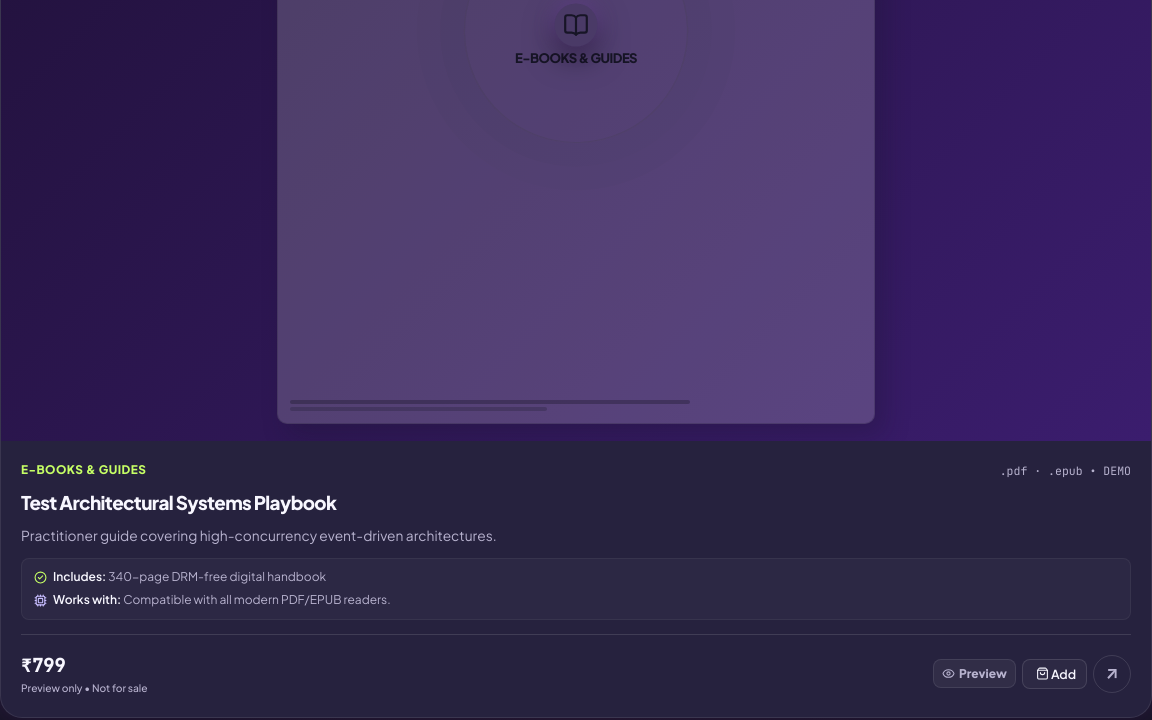
Test: Product Quick View Modal & Portal Functionality › closes when clicking the close button and restores body scroll
This screenshot has width=1152, height=720.
(page scrolled)
Click the button "Preview" at [974, 674], box x1=933 y1=659 x2=1016 y2=688
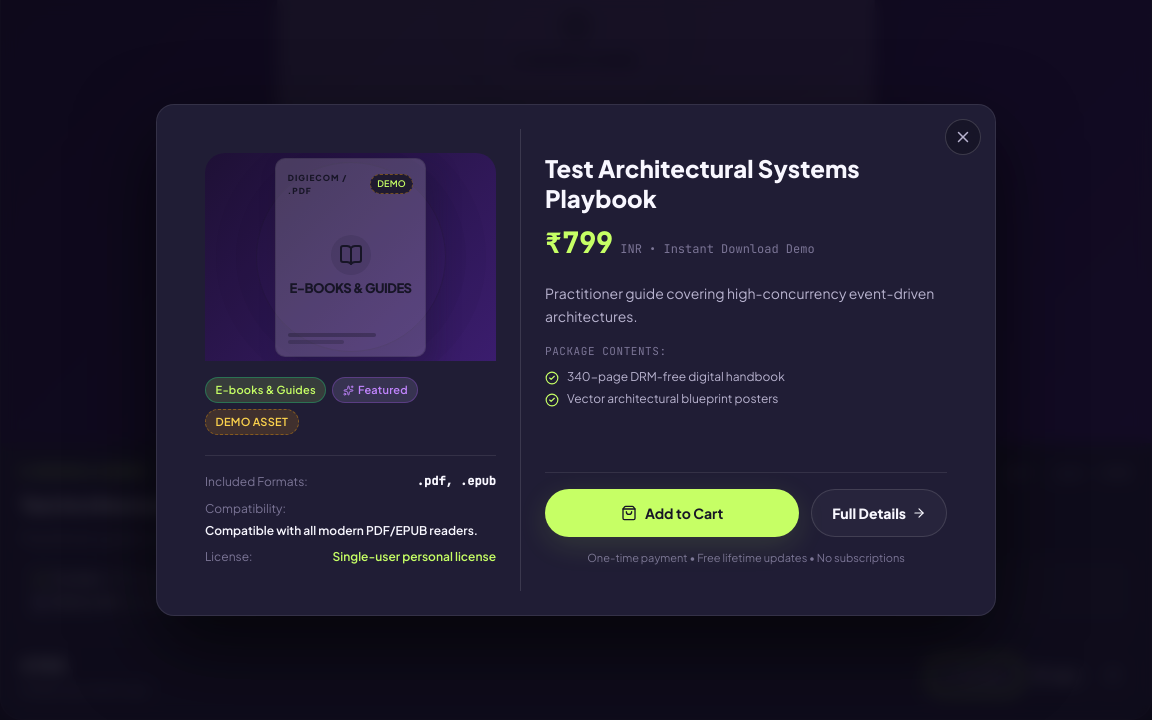
Expected: the dialog is shown, x1=156 y1=104 x2=996 y2=616
Click Close
Click the button named "Close quick view" at [963, 137], box x1=945 y1=119 x2=981 y2=155
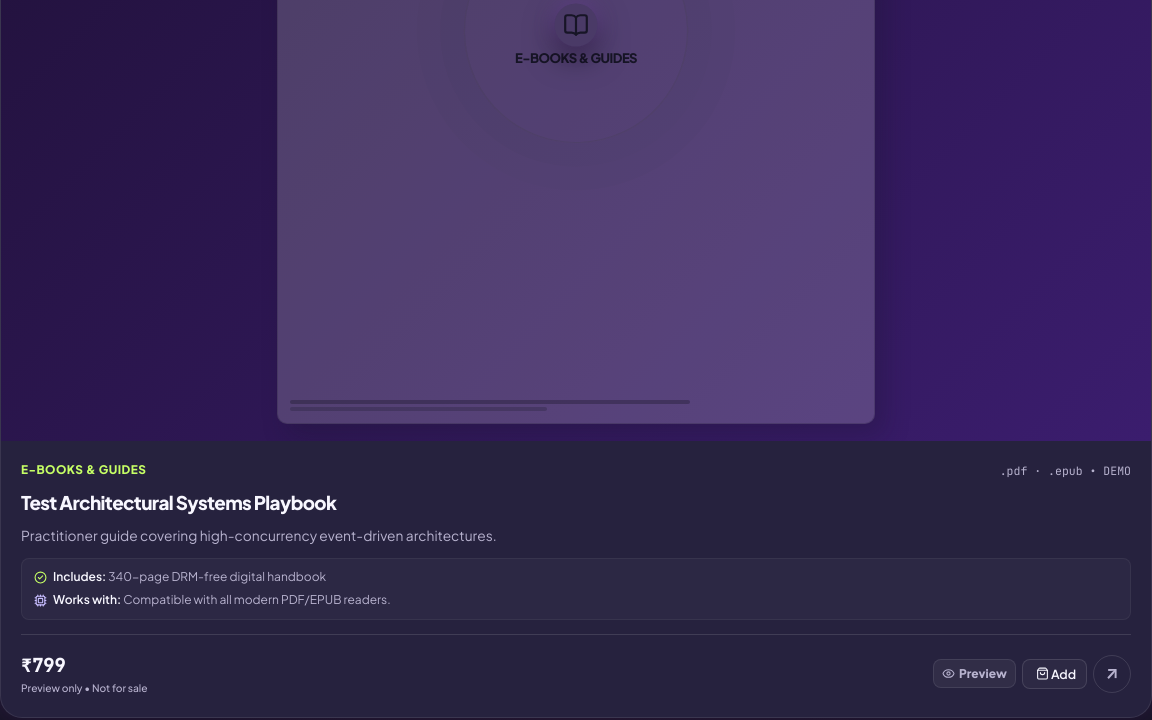
Expected: the dialog is gone
